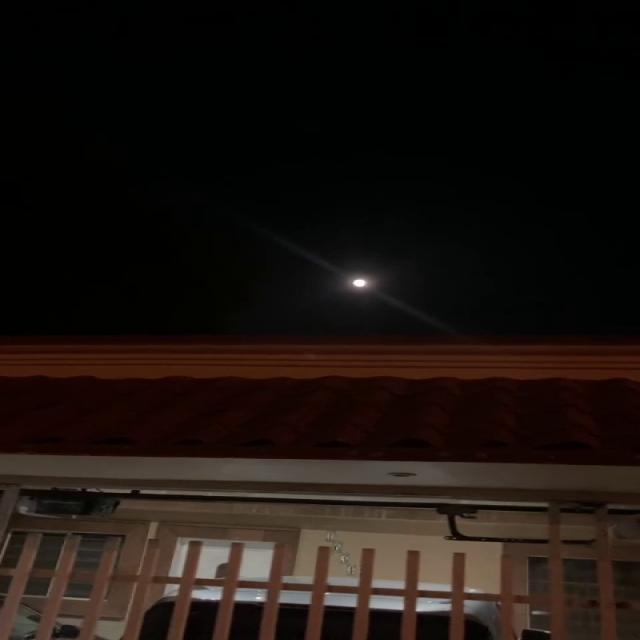moon: (352, 276, 374, 293)
